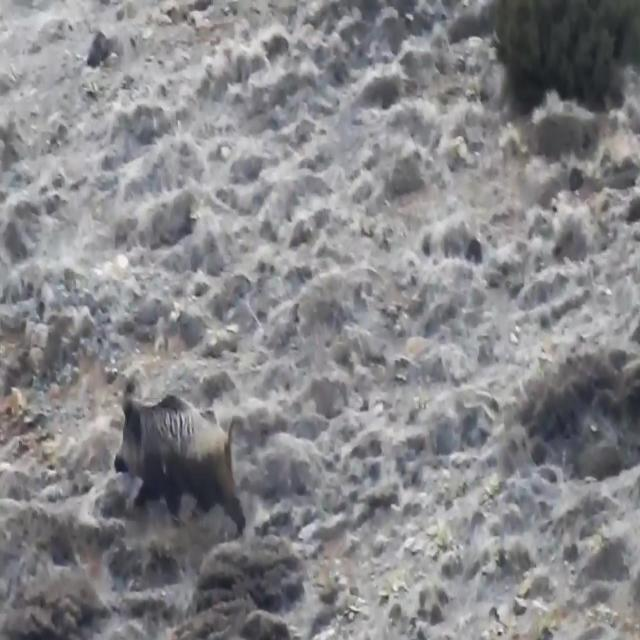pig: (114, 356, 230, 530)
